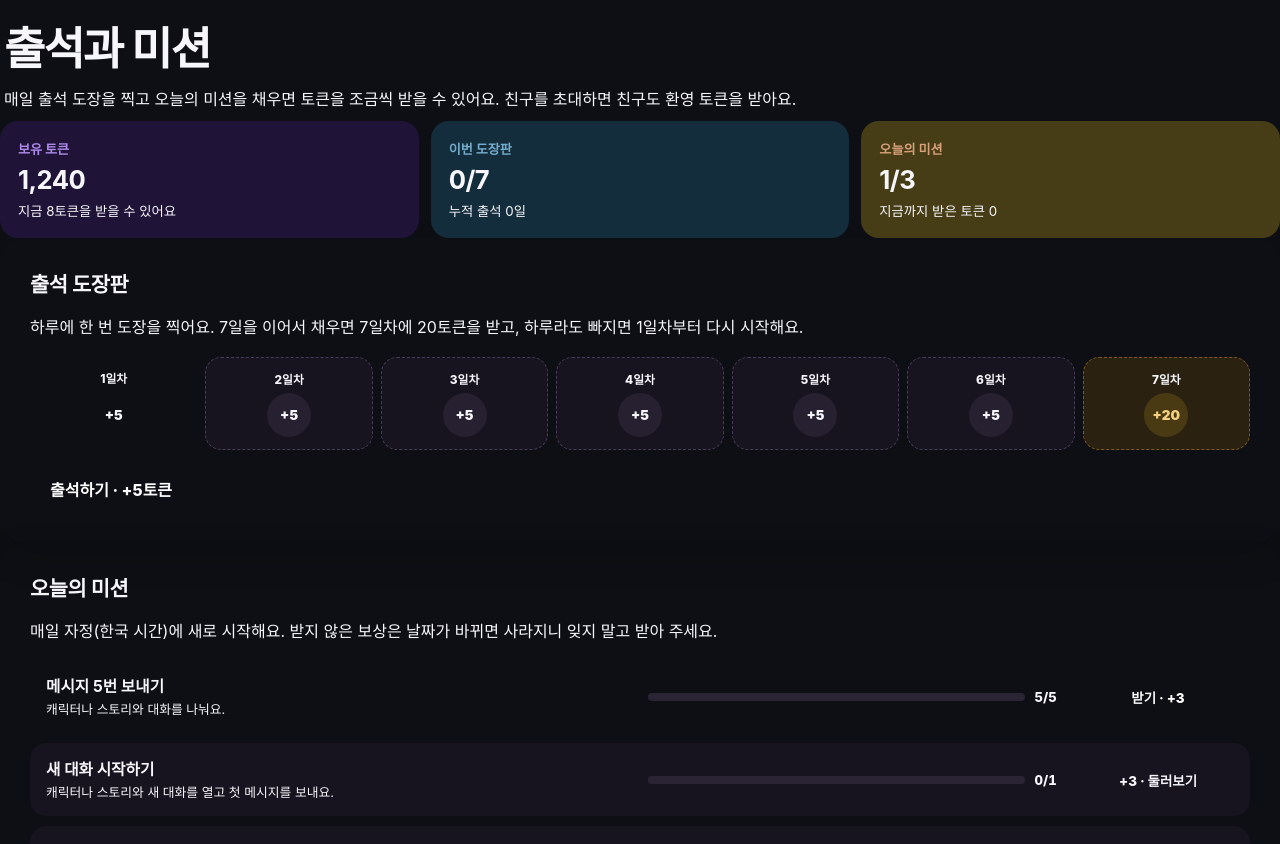
Test: 출석과 미션 화면 › 목표를 채운 미션만 받기 버튼이 나오고 나머지는 하러 가는 링크를 보여 준다
Check: the button "모두 완료 보너스" is not shown
Step 1. Click the button with aria-label "메시지 5번 보내기 보상 3토큰 받기" → (1158, 697), box [1082, 677, 1234, 717]
(page scrolled)
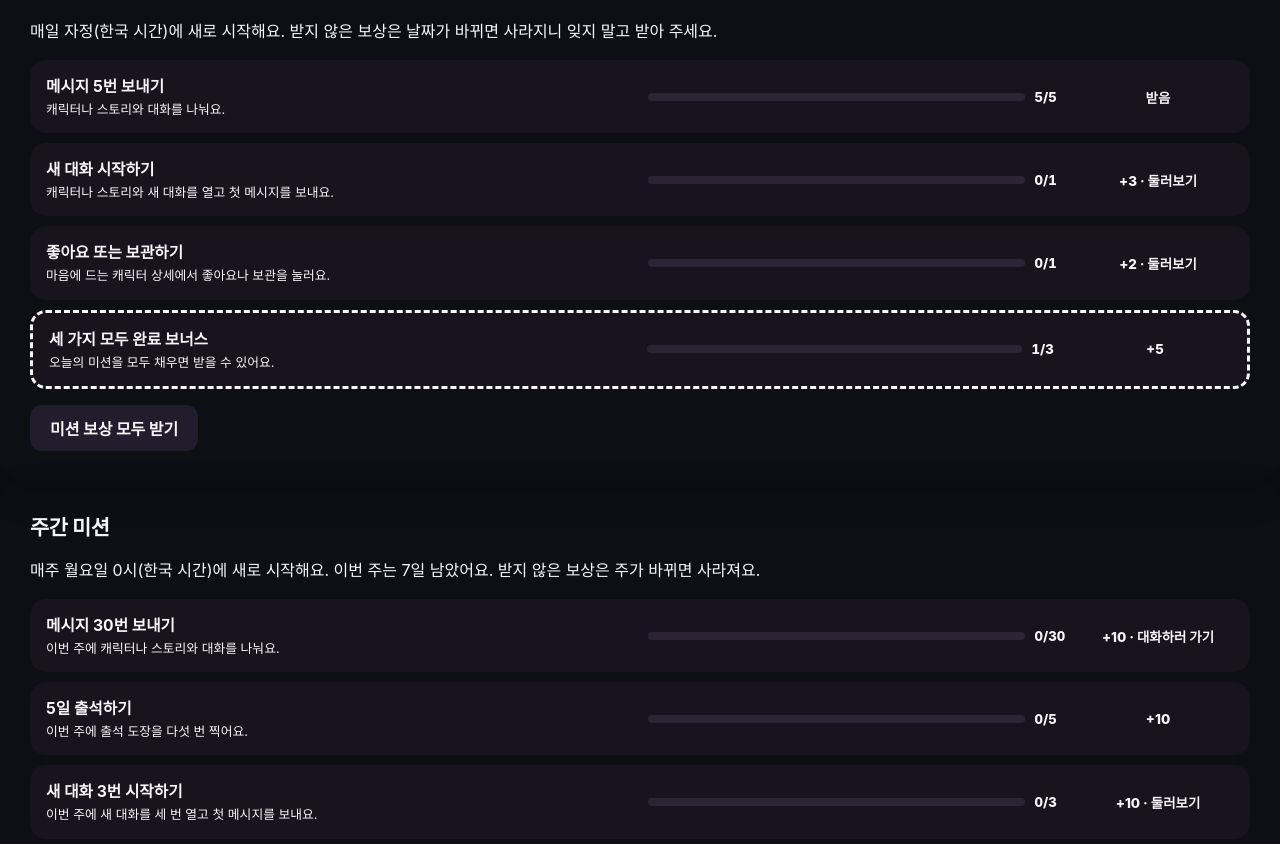
Check: the text "받음" is shown, box [1146, 90, 1170, 106]
Check: the button "미션 보상 모두 받기" is disabled, box [30, 405, 198, 451]
